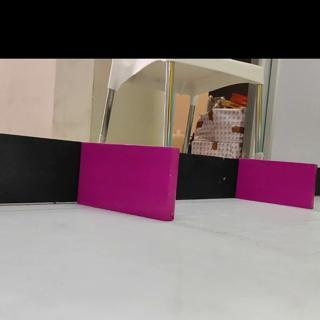xparking: (89, 147, 176, 217), (241, 165, 313, 207)
